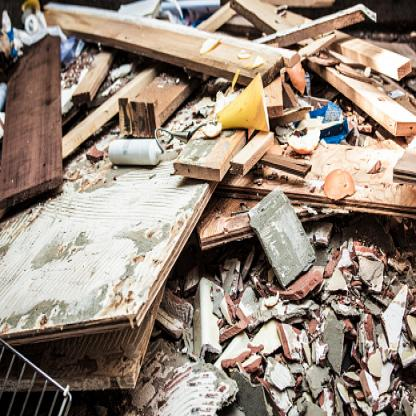brick: (2, 1, 415, 413)
